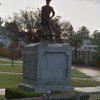Statue: (16, 4, 82, 56)
